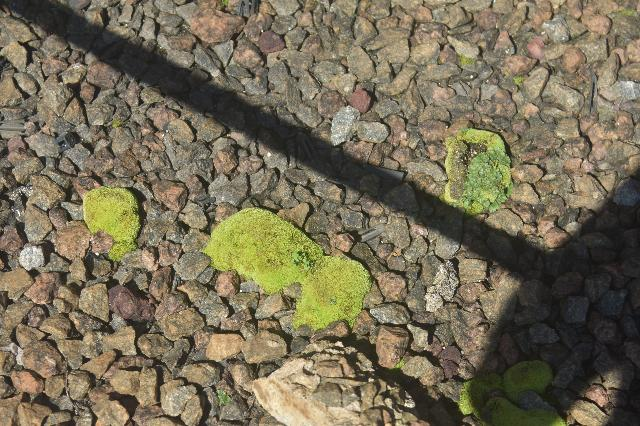MusgoMontesDelPlata: (204, 205, 323, 293), (443, 125, 514, 220), (291, 254, 375, 331), (76, 181, 144, 261), (500, 354, 555, 404), (481, 396, 570, 426), (453, 370, 506, 419), (449, 53, 480, 70), (503, 74, 531, 89), (108, 115, 126, 134)
